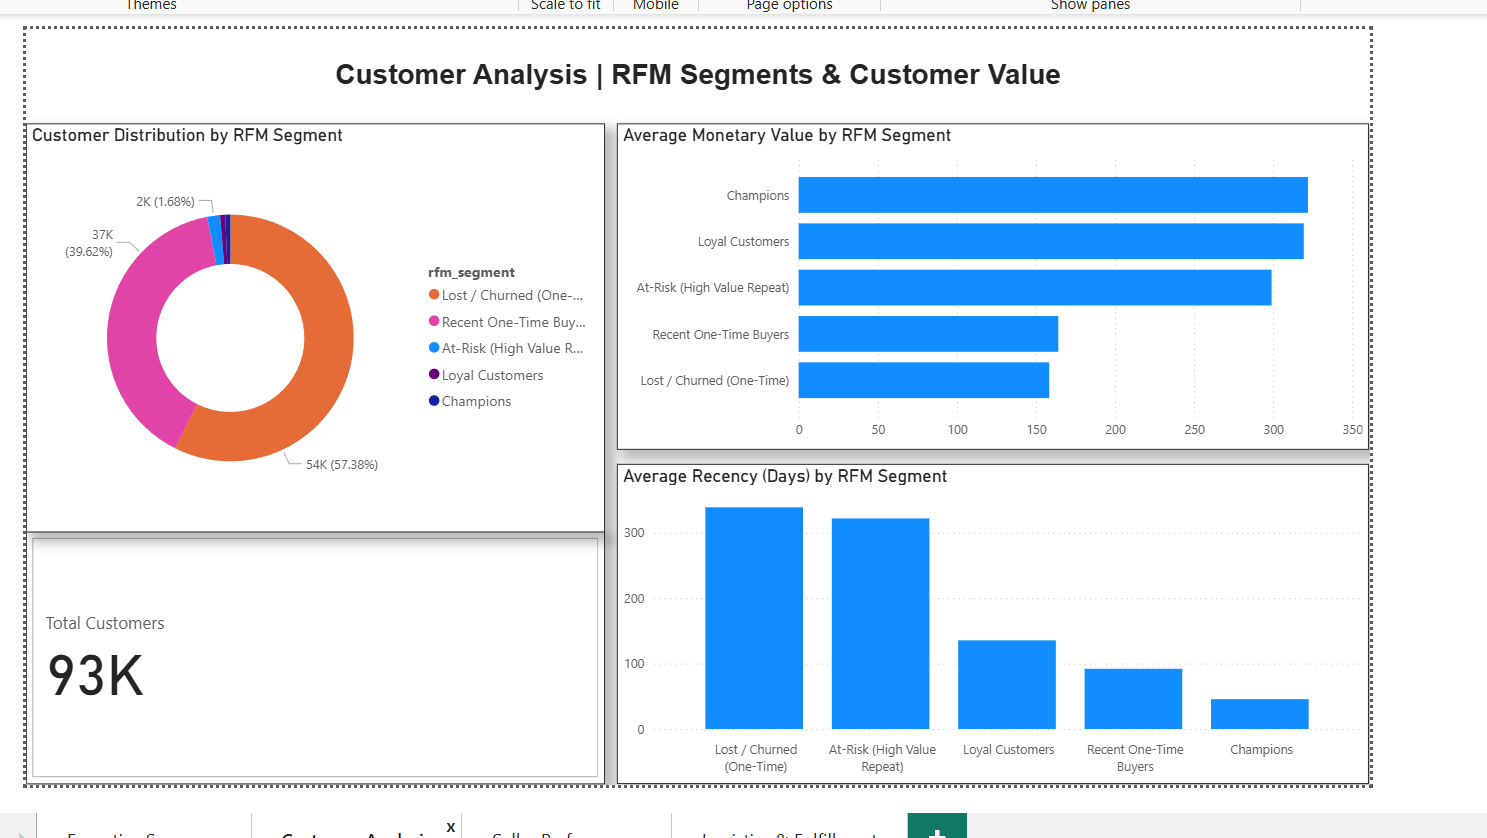

The dashboard page shown, as its layout file describes it:
{"tool":"powerbi","page":{"name":"Customer Analysis","canvas":[1280,720],"ordinal":1},"visuals":[{"type":"cardVisual","fields":{"Data":["Sum(18_vw_customer_rfm_segments.total_customers)"]},"box":[0,478.5,551.2,240.8],"z":0},{"type":"donutChart","title":"Customer Distribution by RFM Segment","fields":{"Category":["18_vw_customer_rfm_segments.rfm_segment"],"Y":["Sum(18_vw_customer_rfm_segments.total_customers)"]},"box":[0,89.3,551.2,389.2],"z":1000},{"type":"clusteredBarChart","title":"Average Monetary Value by RFM Segment","fields":{"Category":["18_vw_customer_rfm_segments.rfm_segment"],"Y":["Sum(18_vw_customer_rfm_segments.avg_monetary_value)"]},"box":[563.3,89.3,716.2,310.4],"z":2000},{"type":"clusteredColumnChart","title":"Average Recency (Days) by RFM Segment","fields":{"Category":["18_vw_customer_rfm_segments.rfm_segment"],"Y":["Sum(18_vw_customer_rfm_segments.avg_recency_days)"]},"box":[563.3,414.9,716.2,304.4],"z":3000},{"type":"textbox","box":[284.7,22.7,711.7,53],"z":4000}]}

Visuals, with their boxes on the page's 1280x720 design canvas (x1, y1, x2, y2). These are canvas units, not pixel positions in the 1487x838 screenshot, which may show the page scaled, cropped or inside an application window:
cardVisual - Sum(18_vw_customer_rfm_segments.total_customers): select_region(0, 478, 551, 719)
"Customer Distribution by RFM Segment" donutChart: select_region(0, 89, 551, 478)
"Average Monetary Value by RFM Segment" clusteredBarChart: select_region(563, 89, 1280, 400)
"Average Recency (Days) by RFM Segment" clusteredColumnChart: select_region(563, 415, 1280, 719)
textbox: select_region(285, 23, 996, 76)
